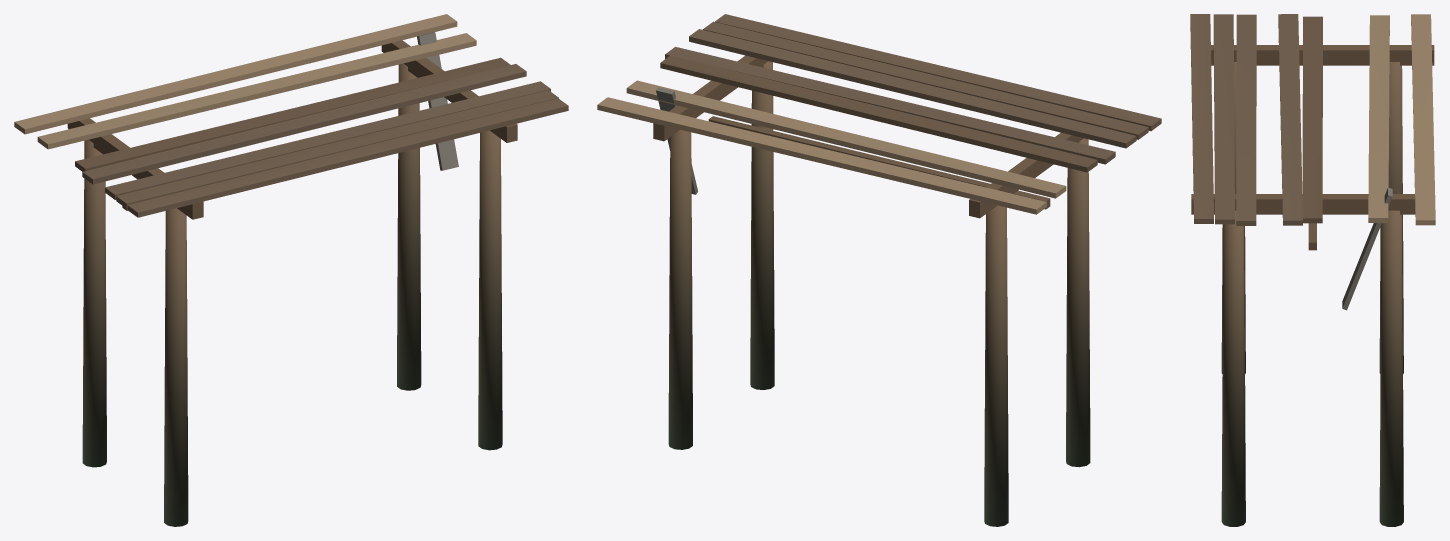
The model's file is Pier_Deck_Broken.glb.
3 views of the same model, side by side, from view 1: azimuth 30°, elevation 25°; view 2: azimuth 150°, elevation 25°; view 3: azimuth 270°, elevation 25° (orthographic). The views are drawn at different scales.
Parts seen in each view (by area): view 1: Pier_Deck_Broken; view 2: Pier_Deck_Broken; view 3: Pier_Deck_Broken.
Boxes of the visible parts, x1,y1,x2,y2 form: Pier_Deck_Broken: [14, 14, 568, 526]; Pier_Deck_Broken: [597, 14, 1161, 526]; Pier_Deck_Broken: [1190, 14, 1435, 526].
Size of the model in its own units: 8.06 by 6.15 by 4.04.
